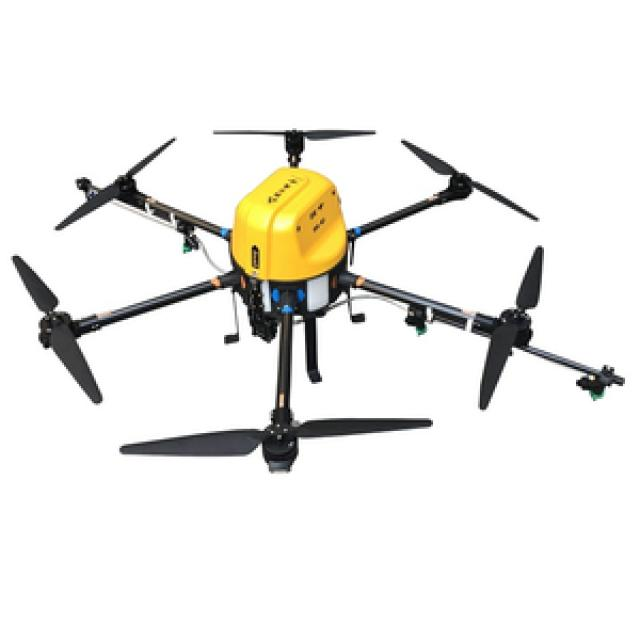drone: (42, 95, 613, 479)
